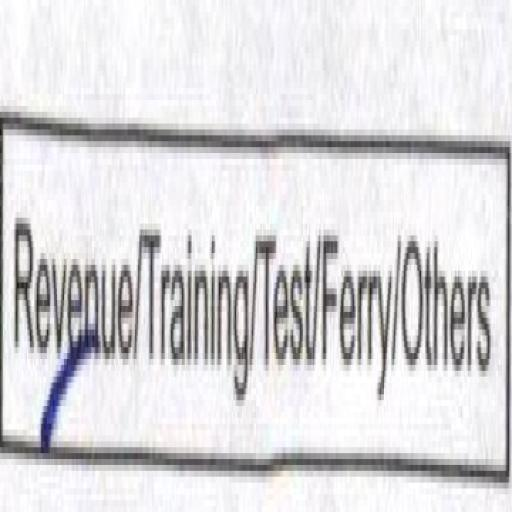check: (0, 41, 133, 512)
